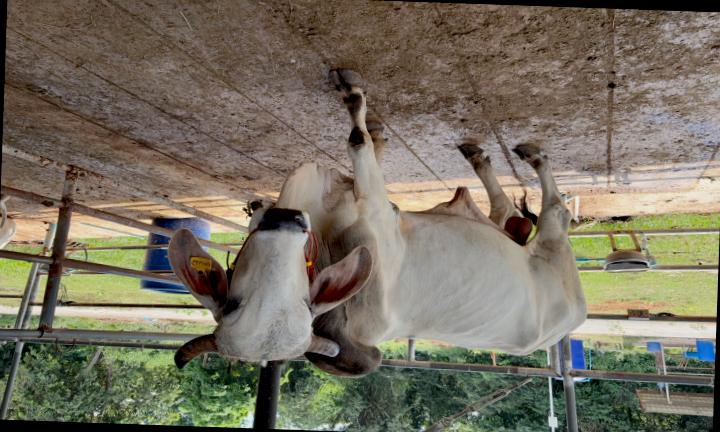Brahman: (168, 70, 586, 377)
